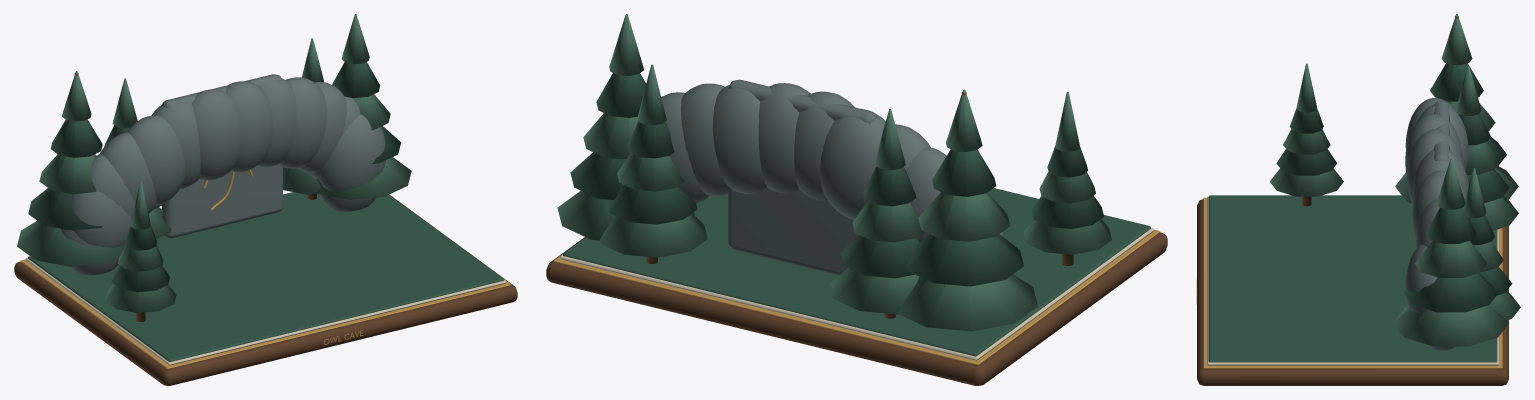
File: cave.glb
3 renders of one model, left to right at view 1: azimuth 30°, elevation 25°; view 2: azimuth 150°, elevation 25°; view 3: azimuth 270°, elevation 25°, orthographic. The views are drawn at different scales.
Visible parts, largest first — view 1: Moss earth.002, Walnut display plinth.007, Carved central stone, Carved cave rock.007, Carved cave rock.001, Carved cave rock.009, Carved cave rock.006, Fir canopy.050, Carved cave rock.004, Carved cave rock.012, Inset brass rim.007, Carved cave rock.005 (+24 smaller); view 2: Moss earth.002, Walnut display plinth.007, Carved central stone, Fir canopy.050, Carved cave rock.008, Fir canopy.051, Carved cave rock.005, Carved cave rock.006, Fir canopy.052, Carved cave rock.004, Fir canopy.065, Inset brass rim.007 (+26 smaller); view 3: Moss earth.002, Walnut display plinth.007, Fir canopy.060, Fir canopy.061, Inset brass rim.007, Fir canopy.062, Stage floor.007, Fir canopy.070, Fir canopy.063, Fir canopy.071, Carved cave rock.006, Fir canopy.053 (+24 smaller).
Boxes of the visible parts, x1,y1,x2,y2 form: Moss earth.002: (28,192,503,361); Walnut display plinth.007: (14,194,517,385); Carved central stone: (161,74,282,238); Carved cave rock.007: (192,89,239,180); Carved cave rock.001: (318,114,385,191); Carved cave rock.009: (127,115,185,205); Carved cave rock.006: (225,81,272,172); Fir canopy.050: (17,221,124,266); Carved cave rock.004: (280,77,326,168); Carved cave rock.012: (71,190,131,247); Inset brass rim.007: (20,259,511,368); Carved cave rock.005: (258,78,296,167); Moss earth.002: (563,188,1150,356); Walnut display plinth.007: (546,232,1167,385); Carved central stone: (728,79,877,275); Fir canopy.050: (898,274,1037,331); Carved cave rock.008: (820,108,885,219); Fir canopy.051: (907,234,1023,286); Carved cave rock.005: (712,84,766,194); Carved cave rock.006: (758,83,810,193); Fir canopy.052: (918,192,1009,241); Carved cave rock.004: (681,83,732,196); Fir canopy.065: (599,213,707,257); Inset brass rim.007: (553,229,1160,365); Moss earth.002: (1208,195,1497,362); Walnut display plinth.007: (1197,199,1508,385); Fir canopy.060: (1393,305,1508,346); Fir canopy.061: (1404,273,1498,312); Inset brass rim.007: (1203,197,1502,368); Fir canopy.062: (1415,240,1487,277); Stage floor.007: (1207,196,1498,365); Fir canopy.070: (1270,168,1343,196); Fir canopy.063: (1425,208,1476,243); Fir canopy.071: (1276,149,1337,175); Carved cave rock.006: (1406,129,1463,204); Fir canopy.053: (1430,63,1483,101).
Bounding box in the file's own units: 7.58 × 4.17 × 5.63.
